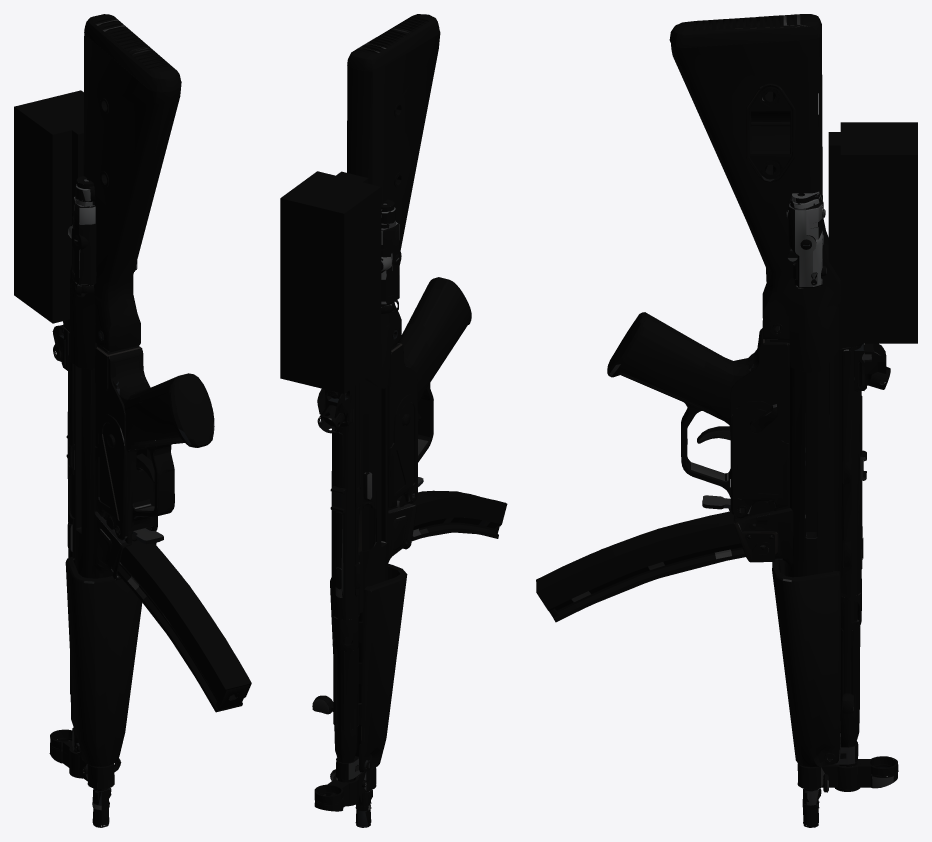
Rendered from MP5A3__Handguard_MP5_Rail__Laser_Rifle.fbx.
3 views of the same model, side by side, from view 1: azimuth 30°, elevation 25°; view 2: azimuth 150°, elevation 25°; view 3: azimuth 270°, elevation 25° (orthographic). The views are drawn at different scales.
Parts seen in each view (by area): view 1: asset_MP5A3.001; view 2: asset_MP5A3.001; view 3: asset_MP5A3.001.
Part boxes in pixels (<box>): asset_MP5A3.001: <box>14,14,251,827</box>; asset_MP5A3.001: <box>280,14,507,827</box>; asset_MP5A3.001: <box>536,14,917,827</box>.
Size of the model in its own units: 0.0324 by 0.36 by 0.1542.
